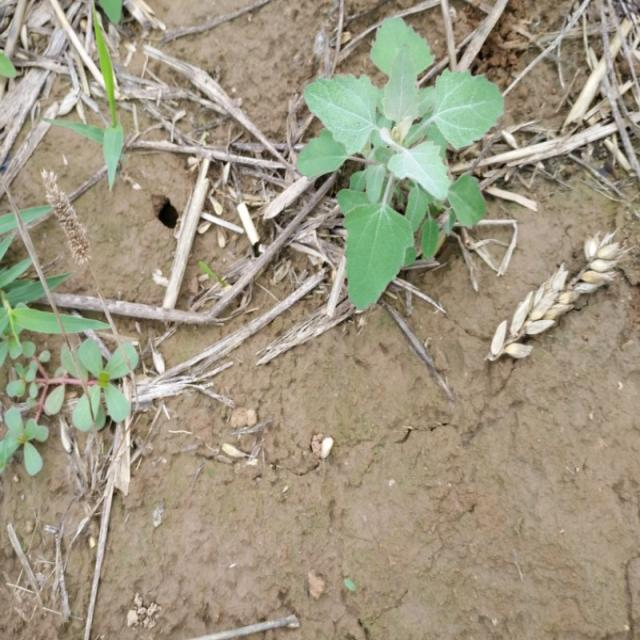goosefoots: (313, 25, 490, 308)
